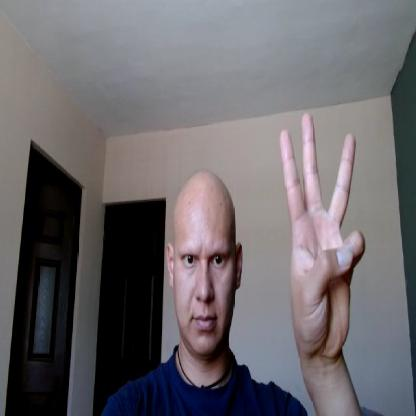W: (279, 107, 369, 358)
